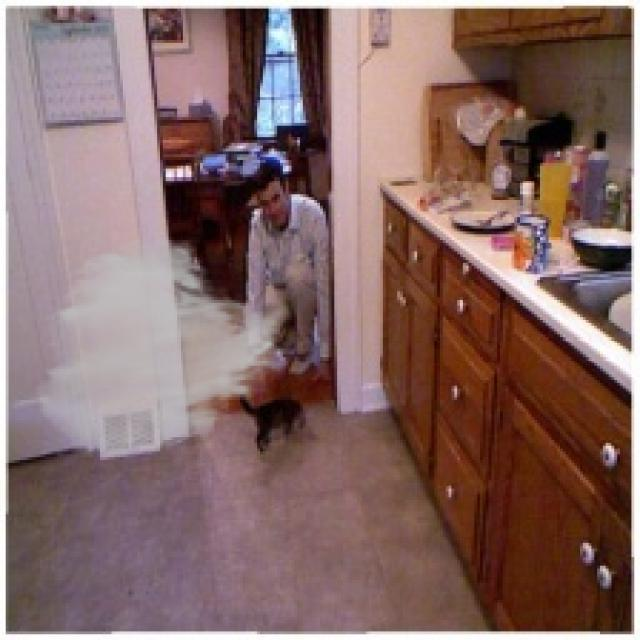Smoke: (32, 235, 294, 460)
